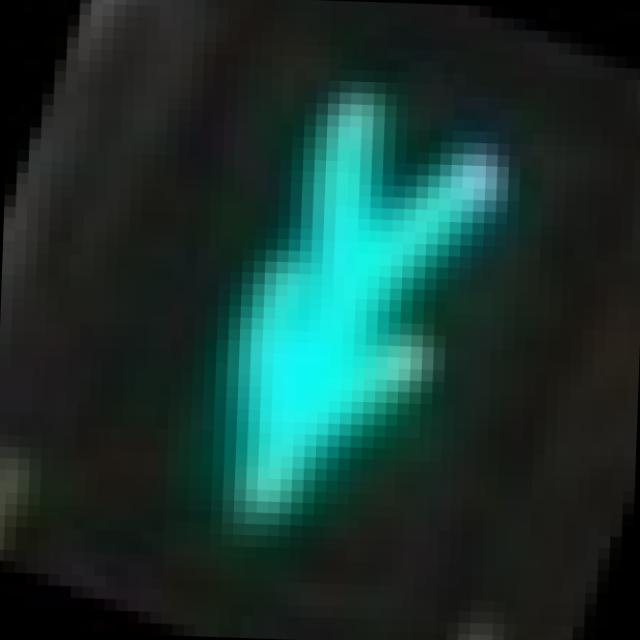green_light: (119, 39, 512, 555)
